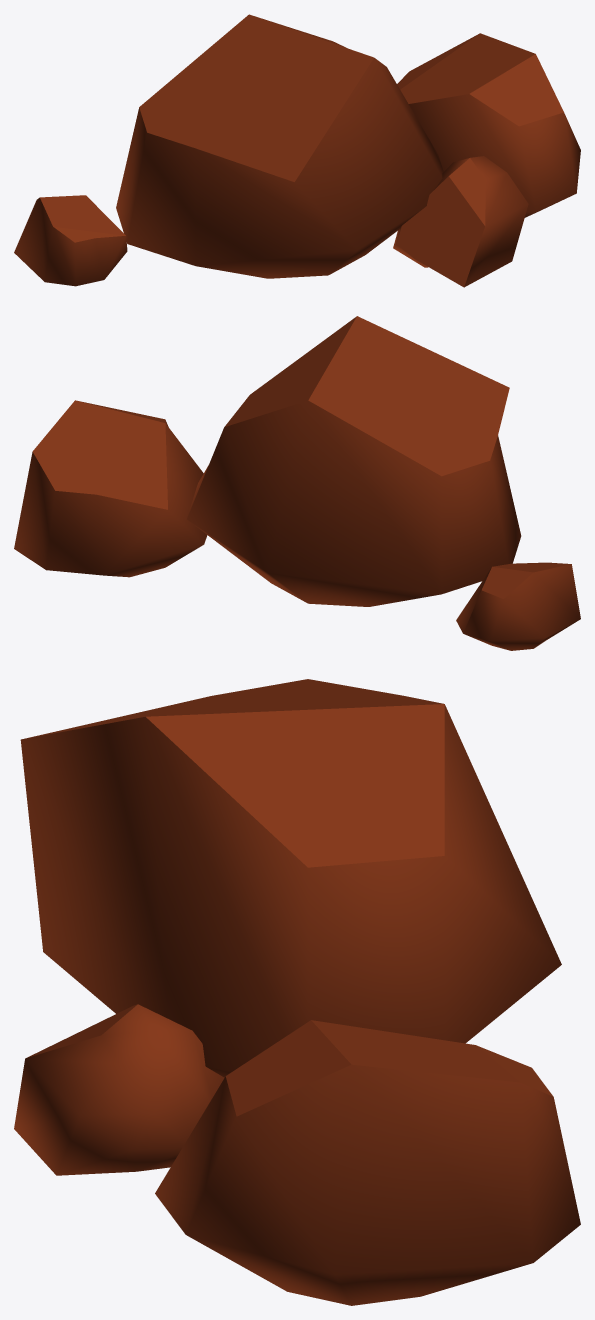
Rendered from Rocks01.FBX.
The picture shows the model from 3 angles, top to bottom: view 1: azimuth 30°, elevation 25°; view 2: azimuth 150°, elevation 25°; view 3: azimuth 270°, elevation 25°; orthographic projection. The views are drawn at different scales.
Visible parts, largest first — view 1: Sphere001, Sphere003, Sphere002, Sphere004; view 2: Sphere001, Sphere003, Sphere004; view 3: Sphere001, Sphere003, Sphere002.
Part boxes in pixels (x1=…): Sphere001: x1=116, y1=14, x2=443, y2=278; Sphere003: x1=397, y1=33, x2=580, y2=217; Sphere002: x1=393, y1=156, x2=528, y2=287; Sphere004: x1=14, y1=195, x2=127, y2=286; Sphere001: x1=187, y1=316, x2=521, y2=606; Sphere003: x1=14, y1=400, x2=207, y2=577; Sphere004: x1=456, y1=562, x2=580, y2=650; Sphere001: x1=20, y1=679, x2=561, y2=1077; Sphere003: x1=155, y1=1020, x2=580, y2=1305; Sphere002: x1=14, y1=1004, x2=224, y2=1175.
Size of the model in its own units: 74.58 by 33.81 by 39.58.
